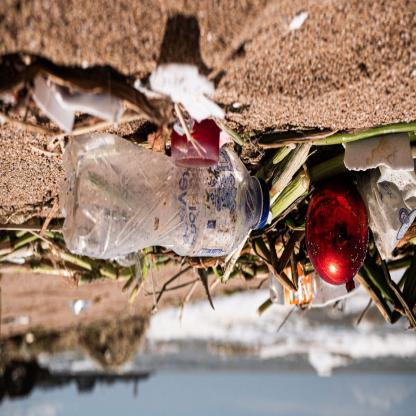Plastic: (54, 128, 272, 264)
